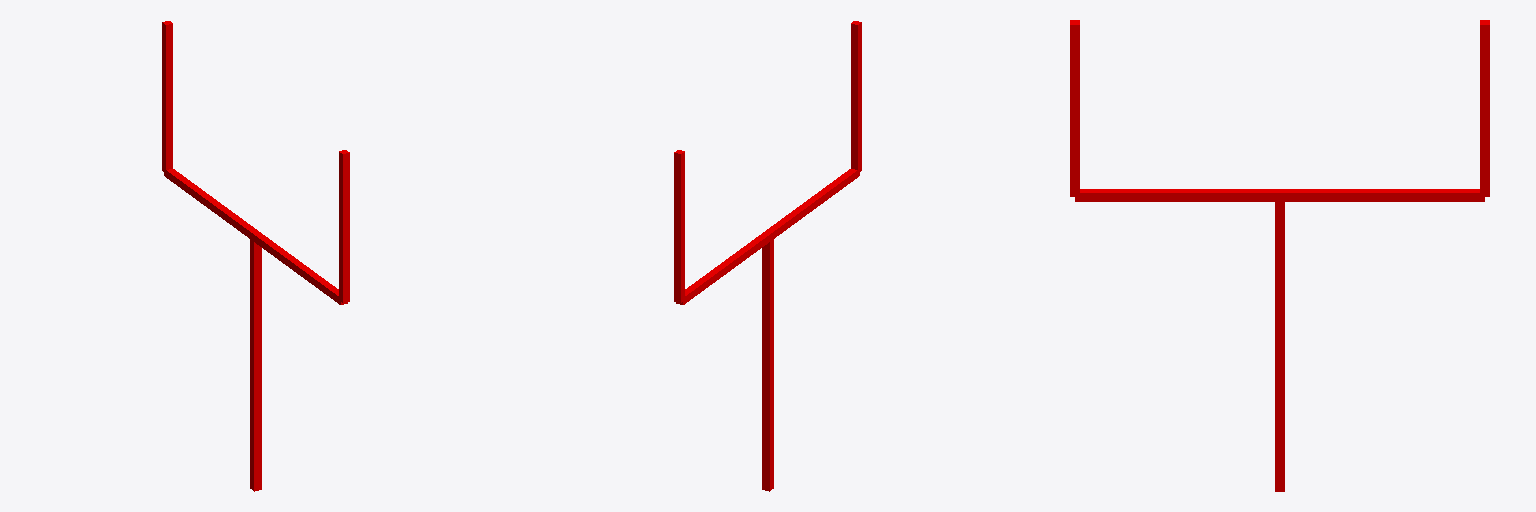
The robot description file, URDF, robot "grasp_simplified.urdf":
<?xml version='1.0' encoding='utf-8'?>
<robot name="grasp_simplified.urdf">
  <link name="baseLink">
    <contact>
      <lateral_friction value="1.0" />
      <rolling_friction value="0.0" />
    </contact>
    <inertial>
      <origin rpy="0 0 0" xyz="0 0 0" />
       <mass value="0.0" />
       <inertia ixx="1e-3" ixy="0" ixz="0" iyy="1e-3" iyz="0" izz="1e-3" />
    </inertial>
    <visual>
      <origin rpy="0 0 0" xyz="0 0 0" />
      <geometry>
				<mesh filename="grasp_simplified.obj" scale="1 1 1" />
      </geometry>
       <material name="red">
        <color rgba="1 0 0 1" />
      </material>
    </visual>
    <collision>
      <origin rpy="0 0 0" xyz="0 0 0" />
      <geometry>
	 	<mesh filename="grasp_simplified.obj" scale="1 1 1" />
      </geometry>
    </collision>
  </link>
</robot>

--- What the picture shows (computed from the rendered views, not written in the file) ---
The picture shows the robot from 3 angles, left to right: view 1: azimuth 30°, elevation 25°; view 2: azimuth 150°, elevation 25°; view 3: azimuth 270°, elevation 25°; orthographic projection.
Robot: grasp_simplified.urdf — 1 links, 0 joints (none); root link baseLink; default pose: all joints at 0.
Visible links, largest first — view 1: baseLink; view 2: baseLink; view 3: baseLink.
Boxes of the visible links, x1,y1,x2,y2 form: baseLink: (162, 21, 349, 491); baseLink: (674, 21, 861, 491); baseLink: (1070, 20, 1489, 491).
Bounding box of the posed robot: 0.002 × 0.088 × 0.108 m (x, y, z).
Meshes: 1 distinct files referenced, 1 mesh visuals loaded (1 OBJ).